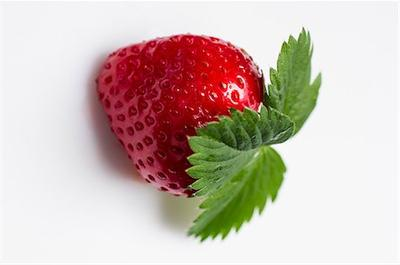strawberry: (0, 0, 400, 265)
